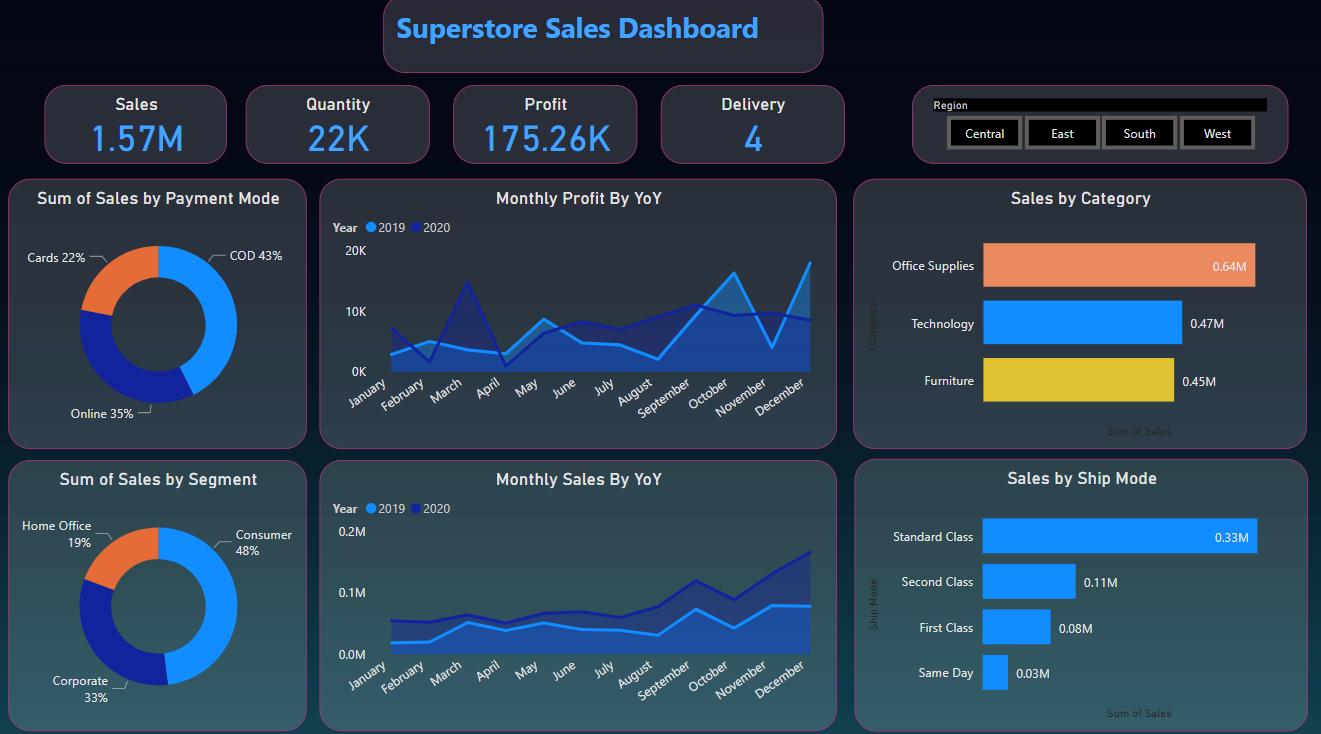

The dashboard page shown, as its layout file describes it:
{"tool":"powerbi","page":{"name":"Dashboard","canvas":[1280,720],"ordinal":0},"visuals":[{"type":"clusteredBarChart","title":"Sales by Category","fields":{"Category":["SuperStore_Sales.Category"],"Y":["Sum(SuperStore_Sales.Sales)"]},"box":[826.1,177.3,437.8,260.5],"z":0},{"type":"clusteredBarChart","title":"Sales by Ship Mode","fields":{"Y":["Sum(SuperStore_Sales.Sales)"],"Category":["SuperStore_Sales.Ship Mode"]},"box":[827.3,447.4,437.8,262.9],"z":2000},{"type":"areaChart","title":"Monthly Sales By YoY","fields":{"Category":["SuperStore_Sales.Order Date.Variation.Date Hierarchy.Month"],"Y":["Sum(SuperStore_Sales.Sales)"],"Series":["SuperStore_Sales.Order Date.Variation.Date Hierarchy.Year"]},"box":[311.2,448.6,499.3,261.7],"z":3000},{"type":"areaChart","title":"Monthly Profit By YoY","fields":{"Category":["SuperStore_Sales.Order Date.Variation.Date Hierarchy.Month"],"Series":["SuperStore_Sales.Order Date.Variation.Date Hierarchy.Year"],"Y":["Sum(SuperStore_Sales.Profit)"]},"box":[311.2,177.3,499.3,260.5],"z":4000},{"type":"donutChart","fields":{"Category":["SuperStore_Sales.Segment"],"Y":["Sum(SuperStore_Sales.Sales)"]},"box":[10.9,448.6,288.2,261.7],"z":6000},{"type":"donutChart","fields":{"Y":["Sum(SuperStore_Sales.Sales)"],"Category":["SuperStore_Sales.Payment Mode"]},"box":[10.9,177.3,288.2,260.5],"z":7000},{"type":"slicer","fields":{"Values":["SuperStore_Sales.Region"]},"box":[882.8,86.8,363,76],"z":8000},{"type":"textbox","box":[372.9,0,425,75.4],"z":9000},{"type":"card","title":"Sales","fields":{"Values":["Sum(SuperStore_Sales.Sales)"]},"box":[45.8,86.8,176.1,76],"z":10000},{"type":"card","title":"Quantity","fields":{"Values":["Sum(SuperStore_Sales.Quantity)"]},"box":[240,86.8,177.3,76],"z":11000},{"type":"card","title":"Profit","fields":{"Values":["Sum(SuperStore_Sales.Profit)"]},"box":[440.2,86.8,177.3,76],"z":12000},{"type":"card","title":"Delivery","fields":{"Values":["Avg(SuperStore_Sales.Average Delivery)"]},"box":[640.4,86.8,177.3,76],"z":13000}]}

Visuals, with their boxes in screenshot pixels (x1, y1, x2, y2), scaled from the page's 1280x720 canvas onto the 1321x734 screenshot:
"Sales by Category" clusteredBarChart: bbox=(853, 181, 1304, 446)
"Sales by Ship Mode" clusteredBarChart: bbox=(854, 456, 1306, 724)
"Monthly Sales By YoY" areaChart: bbox=(321, 457, 836, 724)
"Monthly Profit By YoY" areaChart: bbox=(321, 181, 836, 446)
donutChart - SuperStore_Sales.Segment x Sum(SuperStore_Sales.Sales): bbox=(11, 457, 309, 724)
donutChart - Sum(SuperStore_Sales.Sales) x SuperStore_Sales.Payment Mode: bbox=(11, 181, 309, 446)
slicer - SuperStore_Sales.Region: bbox=(911, 88, 1286, 166)
textbox: bbox=(385, 0, 823, 77)
"Sales" card: bbox=(47, 88, 229, 166)
"Quantity" card: bbox=(248, 88, 431, 166)
"Profit" card: bbox=(454, 88, 637, 166)
"Delivery" card: bbox=(661, 88, 844, 166)
